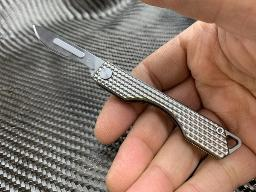scalpel: (32, 24, 242, 160)
